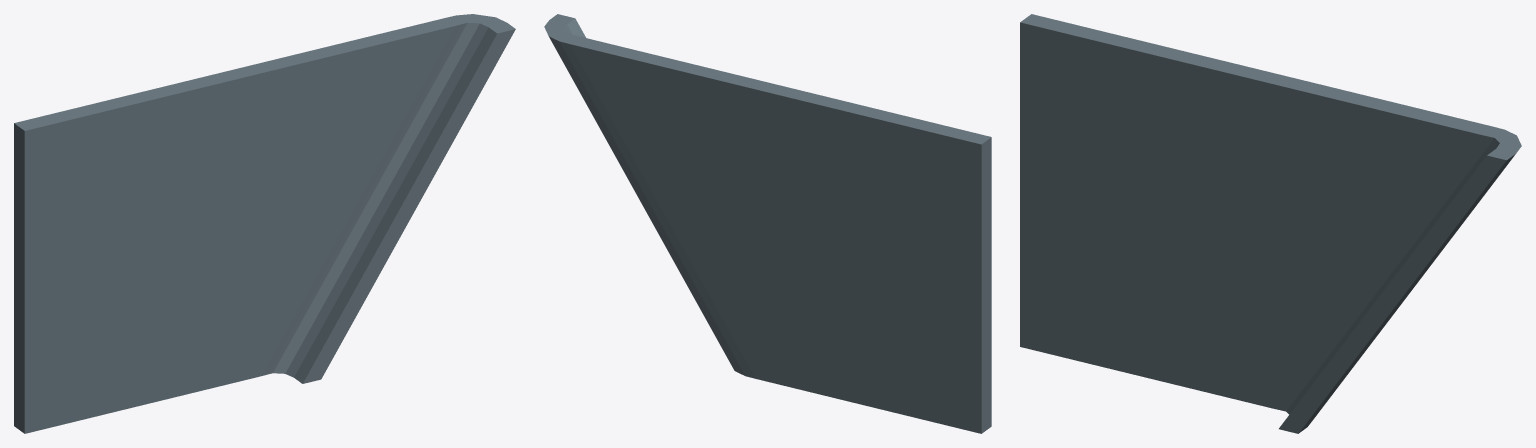
Rendered from Wall trianglelike right.fbx.
The picture shows the model from 3 angles, left to right: view 1: azimuth 30°, elevation 25°; view 2: azimuth 150°, elevation 25°; view 3: azimuth 330°, elevation 25°; orthographic projection. The views are drawn at different scales.
Parts seen in each view (by area): view 1: pCube317; view 2: pCube317; view 3: pCube317.
Boxes of the visible parts, x1=… form: pCube317: x1=14, y1=14, x2=515, y2=433; pCube317: x1=544, y1=14, x2=991, y2=433; pCube317: x1=1020, y1=14, x2=1521, y2=433.
Size of the model in its own units: 227 by 139 by 24.18.
